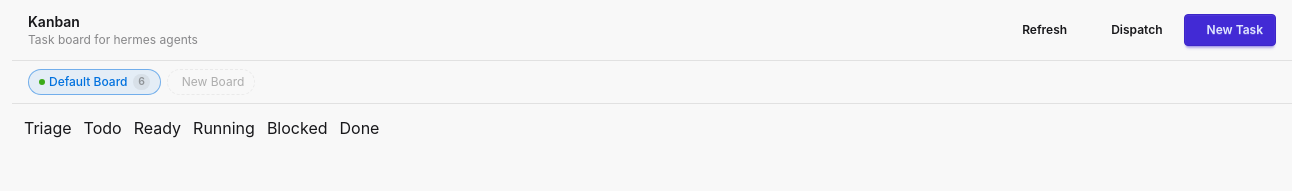
Test: KanbanBoard.vue › should show create task modal when "New Task" button is clicked
The image size is (1292, 191).
What coordinates should you click on to do the following:
click the button "New Task"
I would click on:
 (1230, 30)
Its box is x1=1184 y1=14 x2=1276 y2=46.
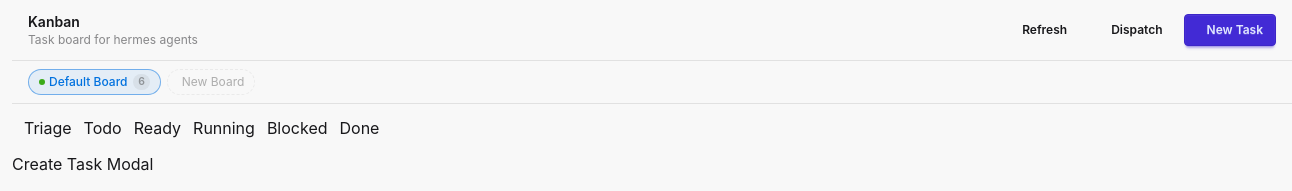
Check: the text "Create Task Modal" is shown, box x1=12 y1=154 x2=153 y2=174
